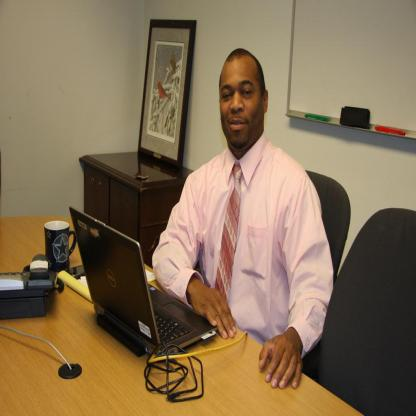board: (69, 205, 217, 359)
